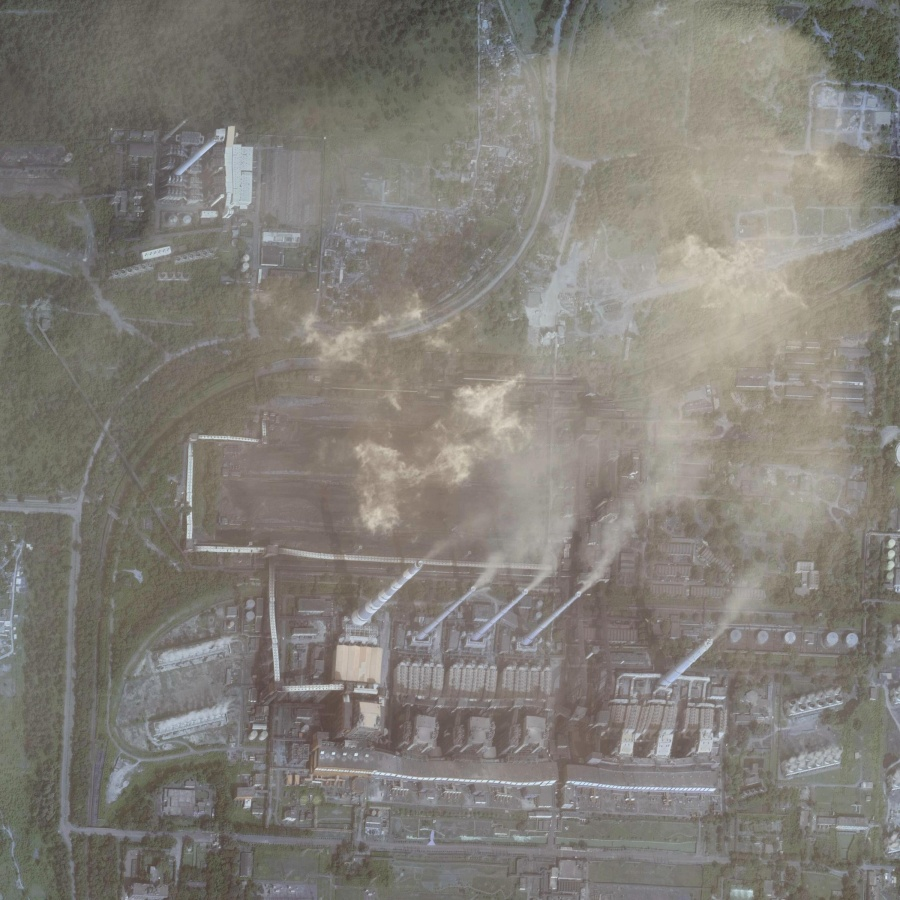PowerPlant: (191, 327, 752, 803)
